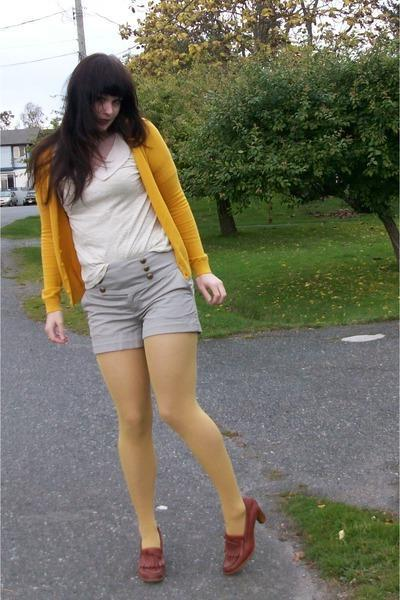Shorts: (74, 248, 202, 356)
short sleeve shirt: (68, 125, 173, 282)
sweater: (30, 112, 218, 315)
